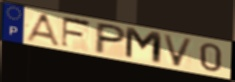0: (197, 42, 225, 73)
A: (23, 12, 62, 48)
F: (59, 15, 94, 50)
M: (123, 26, 165, 67)
P: (92, 21, 129, 56)
V: (161, 33, 196, 68)
